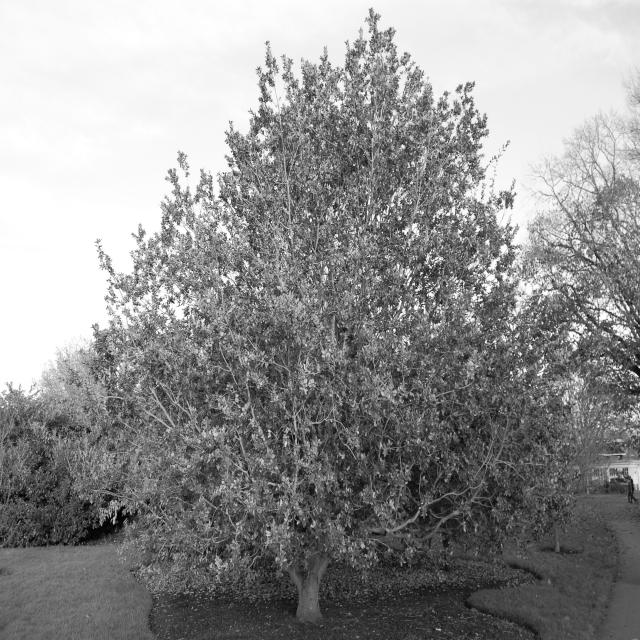Quercus chrysolepis: (64, 10, 570, 624)
